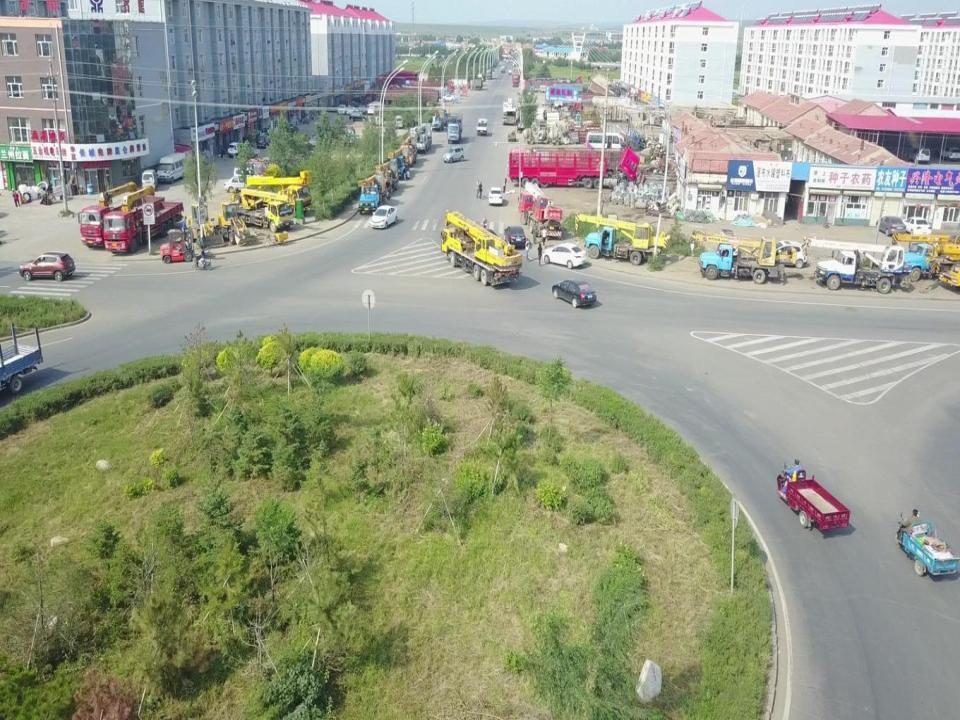bus: (586, 131, 625, 155), (502, 98, 518, 125)
car: (17, 251, 76, 282), (551, 275, 597, 309), (765, 239, 807, 268), (542, 243, 586, 269), (369, 204, 398, 229), (876, 215, 906, 236), (502, 224, 526, 249), (901, 216, 931, 236), (223, 176, 258, 193), (442, 145, 464, 162), (227, 141, 245, 157), (488, 186, 502, 204), (256, 134, 274, 148), (349, 112, 367, 122), (366, 117, 382, 126), (442, 94, 454, 102), (337, 104, 346, 114), (346, 104, 354, 114), (367, 106, 375, 115)
truck: (508, 144, 640, 189), (76, 192, 164, 249), (102, 198, 184, 254), (364, 88, 437, 104), (522, 74, 584, 92), (405, 78, 454, 93), (446, 112, 462, 143), (476, 117, 488, 136), (474, 75, 484, 90), (511, 72, 520, 86)
van: (156, 152, 186, 184), (233, 166, 264, 182), (245, 157, 270, 176), (141, 168, 159, 190), (394, 114, 404, 128)
